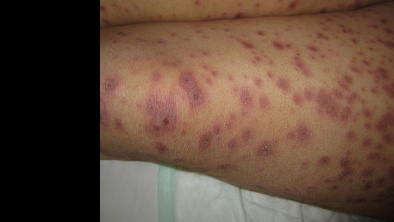SJS-TEN: (101, 0, 393, 212)
